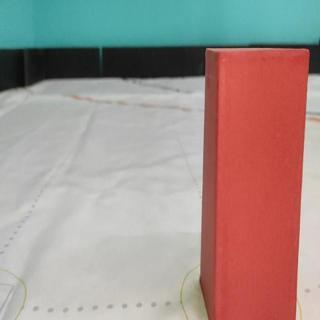redbox: (197, 46, 309, 320)
